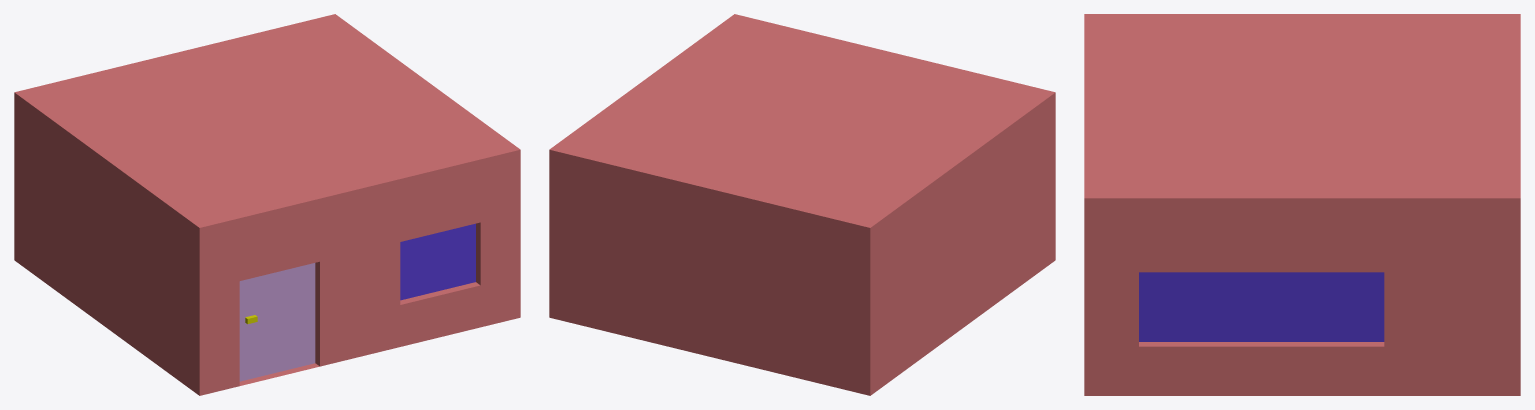
File: buildingWithDoor.fbx
3 views of the same model, side by side, from view 1: azimuth 30°, elevation 25°; view 2: azimuth 150°, elevation 25°; view 3: azimuth 270°, elevation 25° (orthographic). The views are drawn at different scales.
Visible parts, largest first — view 1: Cube; view 2: Cube; view 3: Cube.
Boxes of the visible parts, x1=… form: Cube: x1=14, y1=14, x2=520, y2=395; Cube: x1=549, y1=14, x2=1055, y2=395; Cube: x1=1084, y1=14, x2=1520, y2=395.
Size of the model in its own units: 800 by 400 by 800.
